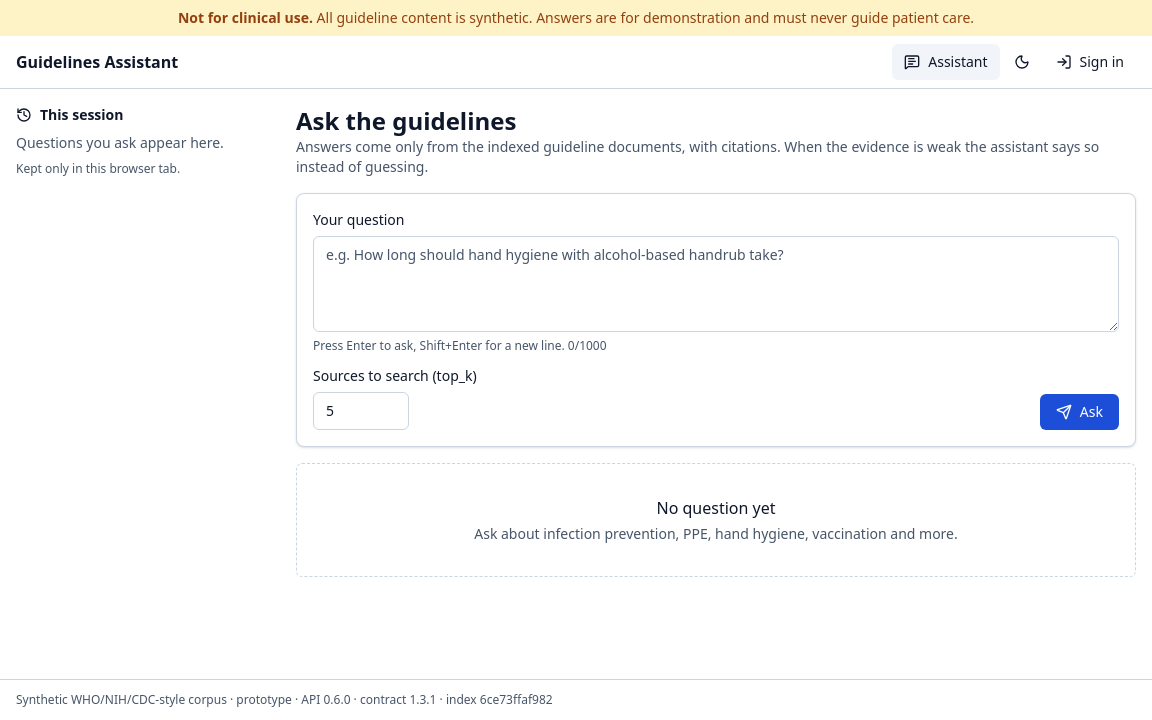
Test case: Query Assistant › reports rate limiting and refuses a malformed answer
Type "How long should hand hygiene with alcohol-based handrub take?" into the text box with test id "question-input" at (716, 284), box [313,236,1119,332]
Then press Enter
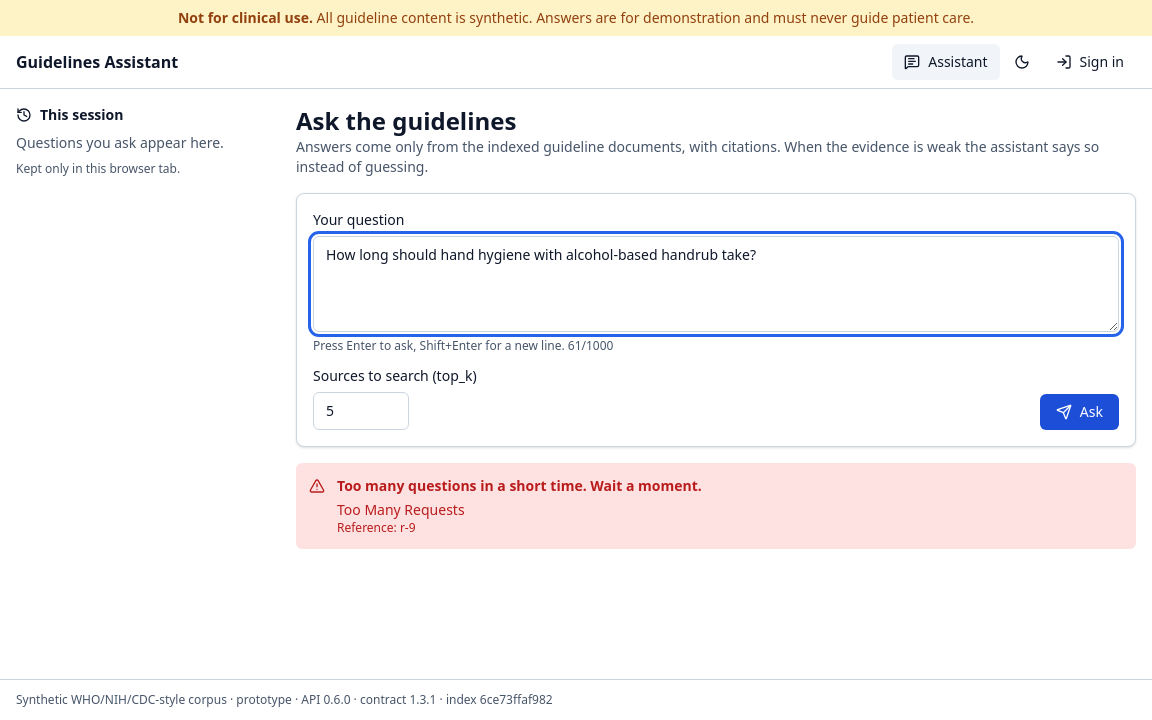
Result: the message with test id "error-alert" shows "Too many questions" at [337,476,702,495]
Click the button with test id "ask-button" at (1079, 412), box [1040,394,1119,430]
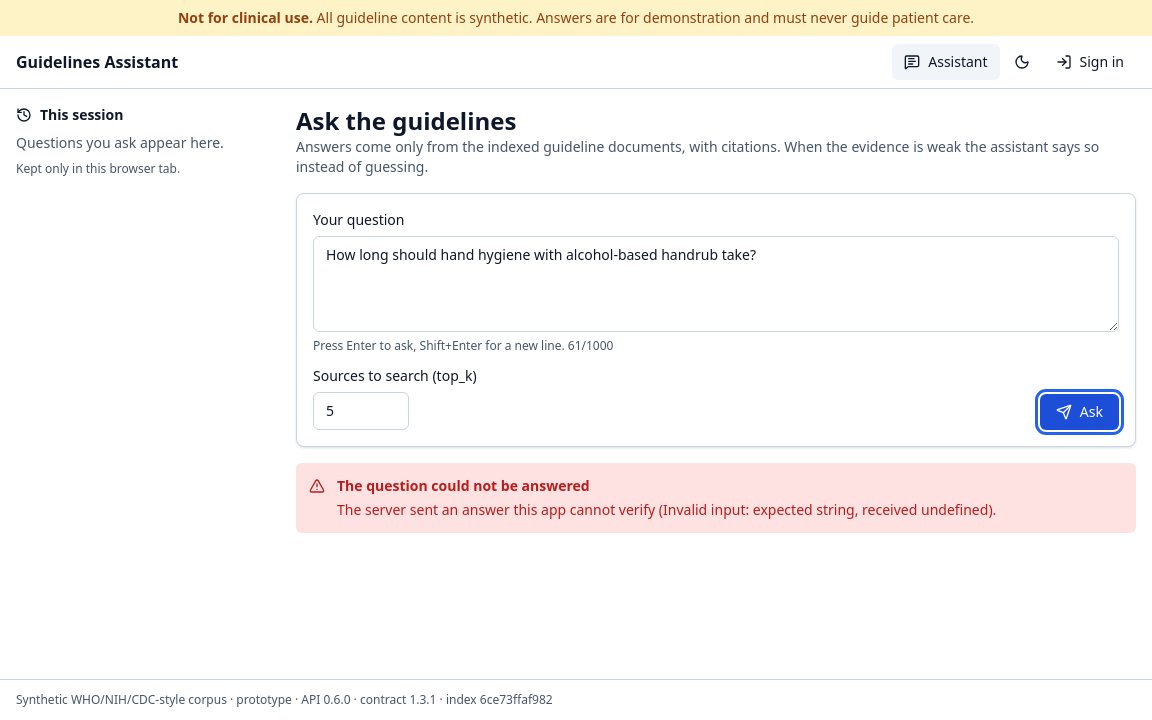
Result: the message with test id "error-alert" shows "cannot verify" at [337,500,996,519]
